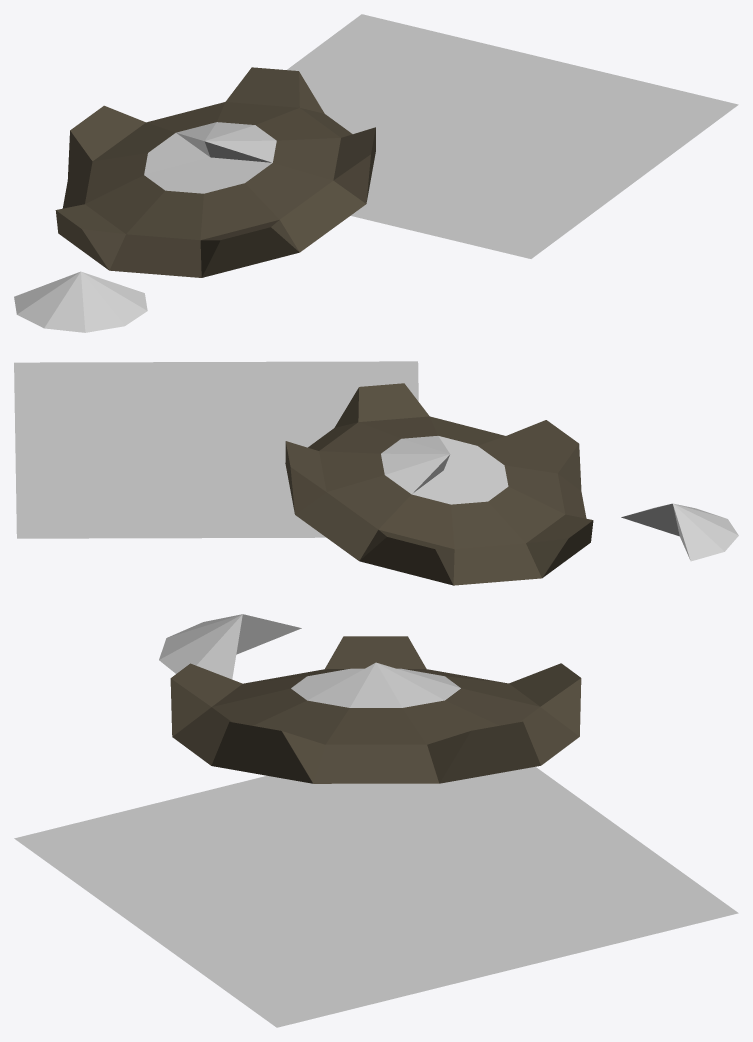
File: ITMI_INNOSEYE_BROKEN_MIS.OBJ
3 views of the same model, one above another, from view 1: azimuth 30°, elevation 25°; view 2: azimuth 150°, elevation 25°; view 3: azimuth 270°, elevation 25° (orthographic). The views are drawn at different scales.
Visible parts, largest first — view 1: ITMI_INNOSEYE_BROKEN_MIS; view 2: ITMI_INNOSEYE_BROKEN_MIS; view 3: ITMI_INNOSEYE_BROKEN_MIS.
Boxes of the visible parts, x1,y1,x2,y2 form: ITMI_INNOSEYE_BROKEN_MIS: [14, 14, 738, 332]; ITMI_INNOSEYE_BROKEN_MIS: [14, 361, 738, 585]; ITMI_INNOSEYE_BROKEN_MIS: [14, 614, 738, 1027].
Size of the model in its own units: 0.2179 by 0.0263 by 0.1515.
